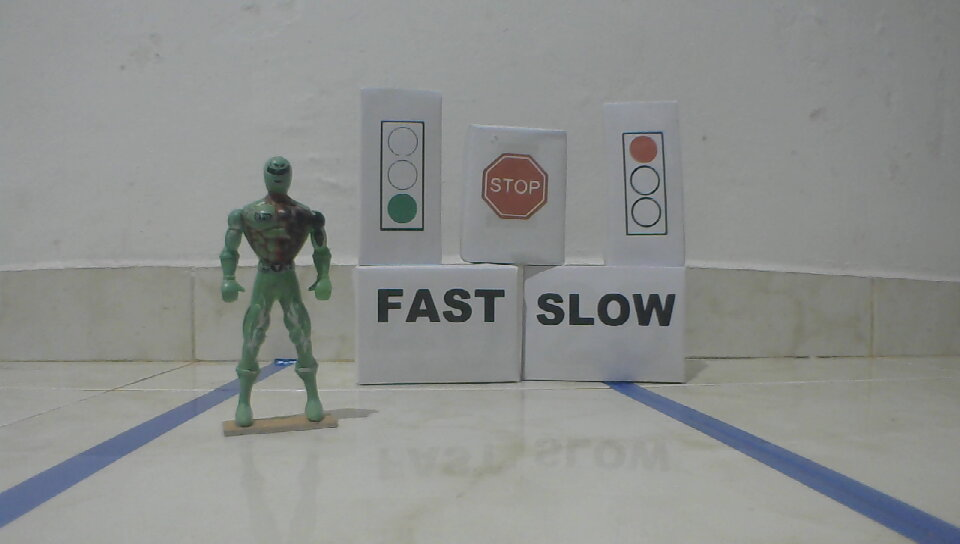Fast: (375, 284, 507, 325)
Green Traffic Light: (377, 118, 429, 234)
Person: (213, 153, 338, 425)
Red Traffic Light: (619, 130, 670, 239)
Slow: (536, 290, 679, 330)
Stop Sign: (480, 152, 550, 222)
